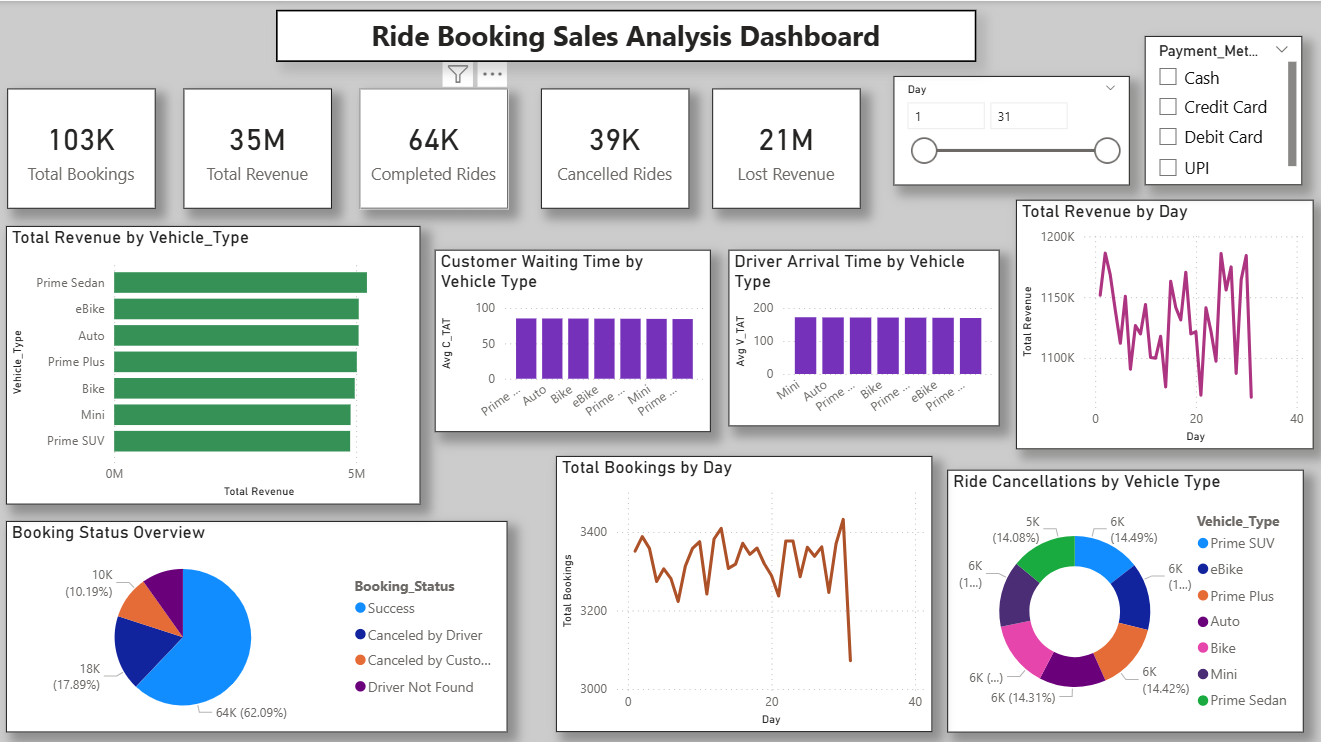

Layout of this report page (visuals, bound fields, positions):
{"tool":"powerbi","page":{"name":"Page 1","canvas":[1280,720],"ordinal":0},"visuals":[{"type":"card","fields":{"Values":["Sheet1.Total Bookings"]},"box":[10.5,84.9,143,116.3],"z":0},{"type":"card","fields":{"Values":["Sheet1.Completed Rides"]},"box":[351.2,84.9,143,116.3],"z":1000},{"type":"card","fields":{"Values":["Sheet1.Total Revenue"]},"box":[181.4,84.9,143,116.3],"z":2000},{"type":"pieChart","title":"Booking Status Overview","fields":{"Category":["Sheet1.Booking_Status"],"Y":["Sheet1.Total Bookings"]},"box":[10,501.4,484.3,204.3],"z":3000},{"type":"clusteredBarChart","fields":{"Category":["Sheet1.Vehicle_Type"],"Y":["Sheet1.Total Revenue"]},"box":[10,217.1,400,268.6],"z":4000},{"type":"columnChart","title":"Customer Waiting Time by Vehicle Type","fields":{"Y":["Sheet1.Avg C_TAT"],"Category":["Sheet1.Vehicle_Type"]},"box":[423,240.4,266,175.9],"z":5000},{"type":"clusteredColumnChart","title":"Driver Arrival Time by Vehicle Type","fields":{"Y":["Sheet1.Avg V_TAT"],"Category":["Sheet1.Vehicle_Type"]},"box":[706.9,240.4,261.6,170.3],"z":6000},{"type":"donutChart","title":"Ride Cancellations by Vehicle Type","fields":{"Y":["Sheet1.Cancelled Rides"],"Category":["Sheet1.Vehicle_Type"]},"box":[918.4,452,344,253.8],"z":7000},{"type":"card","fields":{"Values":["Sheet1.Cancelled Rides"]},"box":[525.6,84.9,143,116.3],"z":8000},{"type":"card","fields":{"Values":["Sheet1.Lost Revenue"]},"box":[691.9,84.9,143,116.3],"z":9000},{"type":"lineChart","fields":{"Category":["Sheet1.Date.Variation.Date Hierarchy.Day"],"Y":["Sheet1.Total Revenue"]},"box":[984.9,191.9,287.2,240.7],"z":10000},{"type":"slicer","fields":{"Values":["Sheet1.Date.Variation.Date Hierarchy.Day"]},"box":[866.3,72.1,227.9,105.8],"z":11000},{"type":"lineChart","fields":{"Y":["Sheet1.Total Bookings"],"Category":["Sheet1.Date.Variation.Date Hierarchy.Day"]},"box":[539.9,439.7,362.9,266],"z":12000},{"type":"slicer","fields":{"Values":["Sheet1.Payment_Method"]},"box":[1109.3,33.7,152.3,144.2],"z":13000},{"type":"textbox","box":[270.2,8.4,675.6,50.7],"z":14000}]}

Visuals, with their boxes in screenshot pixels (x1, y1, x2, y2), scaled from the page's 1280x720 canvas onto the 1321x742 screenshot:
card - Sheet1.Total Bookings: bbox=[11, 87, 158, 207]
card - Sheet1.Completed Rides: bbox=[362, 87, 510, 207]
card - Sheet1.Total Revenue: bbox=[187, 87, 335, 207]
"Booking Status Overview" pieChart: bbox=[10, 517, 510, 727]
clusteredBarChart - Sheet1.Vehicle_Type x Sheet1.Total Revenue: bbox=[10, 224, 423, 501]
"Customer Waiting Time by Vehicle Type" columnChart: bbox=[437, 248, 711, 429]
"Driver Arrival Time by Vehicle Type" clusteredColumnChart: bbox=[730, 248, 1000, 423]
"Ride Cancellations by Vehicle Type" donutChart: bbox=[948, 466, 1303, 727]
card - Sheet1.Cancelled Rides: bbox=[542, 87, 690, 207]
card - Sheet1.Lost Revenue: bbox=[714, 87, 862, 207]
lineChart - Sheet1.Date.Variation.Date Hierarchy.Day x Sheet1.Total Revenue: bbox=[1016, 198, 1313, 446]
slicer - Sheet1.Date.Variation.Date Hierarchy.Day: bbox=[894, 74, 1129, 183]
lineChart - Sheet1.Total Bookings x Sheet1.Date.Variation.Date Hierarchy.Day: bbox=[557, 453, 932, 727]
slicer - Sheet1.Payment_Method: bbox=[1145, 35, 1302, 183]
textbox: bbox=[279, 9, 976, 61]
